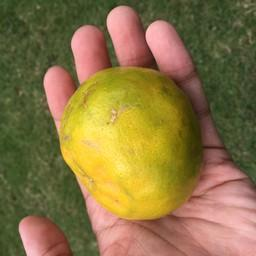Good_orange: (58, 63, 204, 224)
